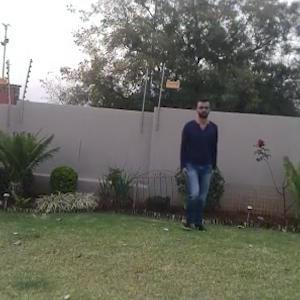follow: (162, 95, 208, 239)
